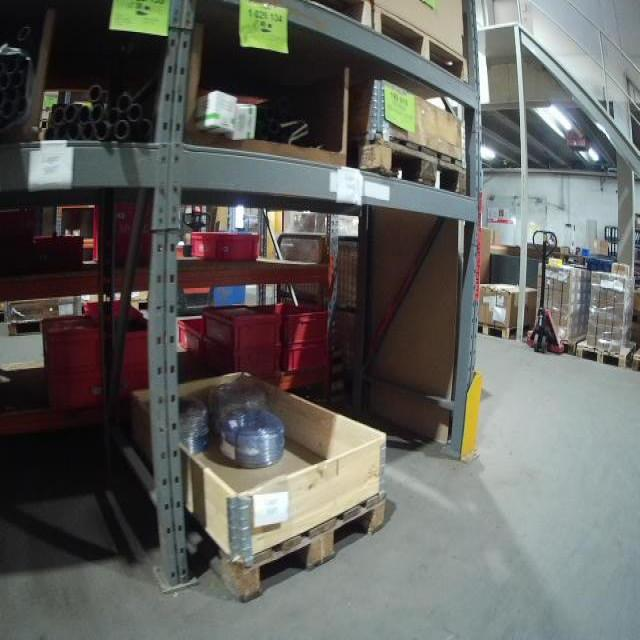pallet: (128, 464, 390, 602), (346, 134, 472, 200), (382, 11, 470, 88), (274, 5, 377, 36), (574, 339, 636, 371), (524, 330, 595, 355), (471, 316, 536, 343), (126, 289, 153, 319), (632, 345, 640, 376)
pallet_truck: (525, 223, 569, 358)
small_load_carrier: (96, 201, 167, 267), (202, 299, 278, 344), (38, 317, 103, 369), (200, 342, 280, 384), (254, 301, 330, 342), (177, 315, 228, 365), (186, 232, 261, 261), (114, 317, 160, 364), (53, 369, 103, 411), (37, 233, 82, 277), (280, 339, 329, 376), (112, 366, 156, 404), (81, 300, 144, 320)
stillage: (278, 229, 378, 398)
